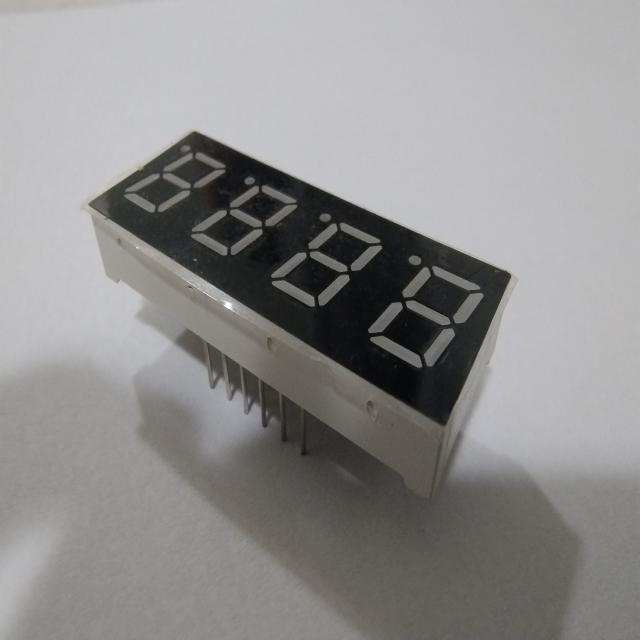7_segments_4_digits: (72, 124, 522, 519)
